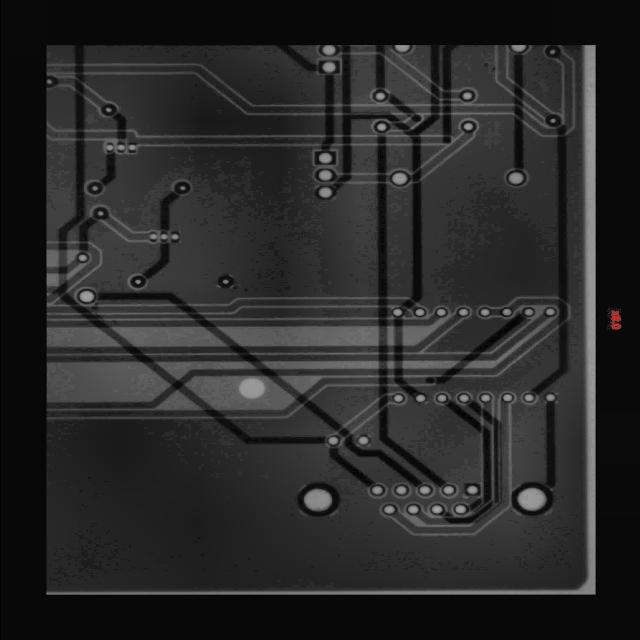Both: (296, 481, 339, 518), (511, 482, 552, 515), (238, 378, 265, 399), (365, 479, 389, 502), (322, 430, 343, 451), (215, 273, 235, 292), (505, 169, 526, 186), (402, 501, 422, 518), (74, 288, 95, 304), (391, 482, 411, 498), (414, 483, 435, 498), (389, 171, 410, 186), (313, 168, 335, 182), (85, 180, 104, 196), (314, 150, 334, 165), (315, 185, 335, 200), (89, 206, 109, 221), (372, 119, 390, 135), (128, 274, 146, 290), (440, 482, 457, 498), (458, 119, 476, 134), (112, 139, 128, 155), (544, 113, 561, 128), (371, 88, 388, 103), (319, 60, 337, 74), (172, 181, 190, 195), (99, 103, 116, 117), (432, 392, 450, 405), (156, 229, 171, 244), (428, 503, 445, 516), (318, 45, 338, 56), (464, 483, 480, 496), (459, 89, 475, 102), (544, 45, 560, 58), (355, 434, 370, 447), (380, 503, 396, 515), (455, 392, 471, 404), (520, 391, 536, 403), (541, 306, 557, 318), (519, 306, 535, 318), (452, 503, 467, 515), (44, 75, 57, 88), (75, 252, 88, 264), (509, 45, 528, 53), (455, 307, 470, 317), (391, 393, 405, 403), (392, 45, 412, 52), (413, 392, 426, 402), (500, 392, 513, 402), (542, 392, 555, 402), (499, 307, 512, 317), (477, 307, 490, 317), (104, 142, 115, 153), (391, 307, 402, 317), (148, 231, 159, 241), (478, 393, 490, 402), (435, 308, 447, 317), (413, 308, 425, 317), (126, 143, 136, 153), (169, 233, 178, 241)
L1: (0, 41, 328, 522), (94, 258, 422, 521), (326, 133, 447, 497), (316, 38, 446, 313), (529, 124, 567, 395), (440, 399, 503, 524), (432, 311, 525, 386), (444, 400, 490, 512), (380, 315, 419, 400), (324, 443, 373, 492), (133, 238, 178, 280), (437, 47, 454, 143), (278, 43, 318, 74), (384, 92, 422, 124), (151, 189, 179, 232), (320, 75, 336, 149), (513, 54, 522, 169), (71, 215, 97, 253), (543, 402, 554, 488), (97, 149, 121, 188), (111, 112, 126, 146), (376, 48, 384, 88), (46, 286, 58, 293)
L2: (43, 293, 574, 418), (46, 52, 572, 137), (390, 396, 559, 570), (46, 368, 432, 437), (48, 313, 549, 362), (48, 313, 463, 370), (414, 394, 534, 547), (336, 24, 462, 121), (46, 126, 450, 154), (481, 43, 551, 128), (51, 313, 440, 327), (52, 299, 419, 313), (406, 127, 476, 185), (45, 243, 99, 304), (332, 392, 396, 441), (52, 70, 106, 116), (101, 215, 150, 247), (51, 314, 234, 319), (387, 115, 421, 131), (46, 258, 80, 274), (330, 174, 389, 182), (489, 309, 501, 315)
